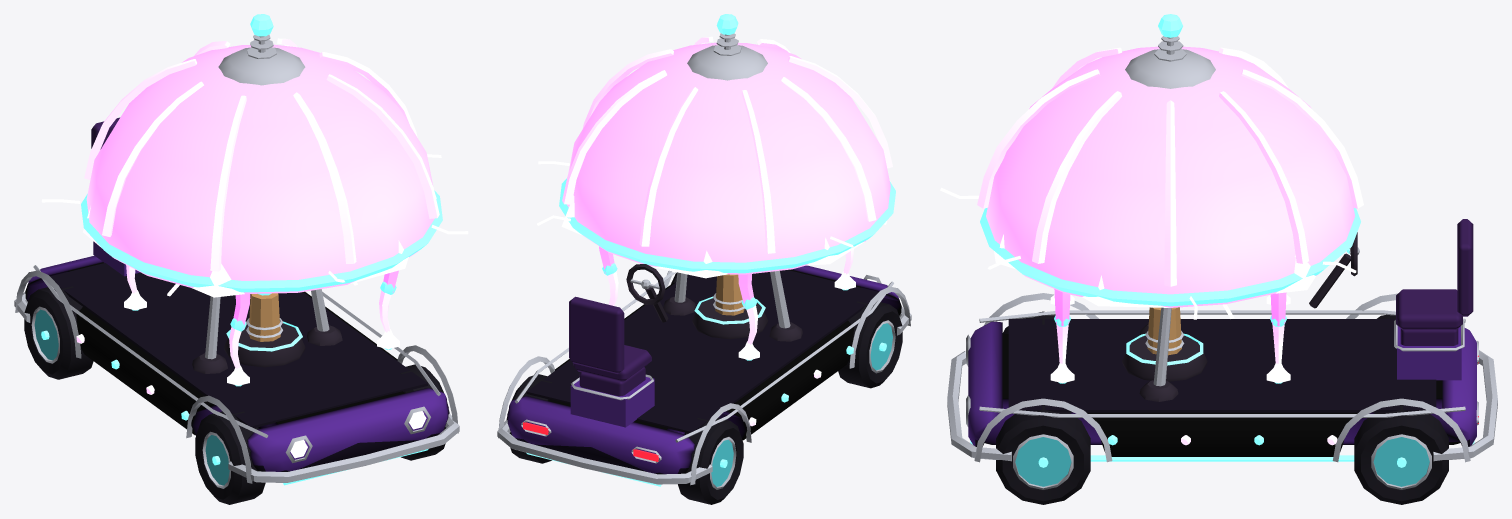
The model's file is jelly_jolt_lo.glb.
The picture shows the model from 3 angles, left to right: view 1: azimuth 30°, elevation 25°; view 2: azimuth 150°, elevation 25°; view 3: azimuth 270°, elevation 25°; orthographic projection. The views are drawn at different scales.
Visible parts, largest first — view 1: bell_dome, deck, pod, bell_ring, wheel_RR_tyre, wheel_FR_tyre, bumper_1, crown, coil_drum, rib_1, rib_0, rib_7 (+17 smaller); view 2: bell_dome, deck, pod, bell_ring, seat_back, wheel_FR_tyre, wheel_RR_tyre, plinth, bumper_0, crown, coil_drum, rib_3 (+20 smaller); view 3: bell_dome, deck, pod, wheel_RL_tyre, wheel_FL_tyre, bell_ring, seat_cushion, crown, plinth, coil_drum, rib_3, wheel_FL_dish (+20 smaller).
Part boxes in pixels (box(x1,y1,x2,y2)): bell_dome: box(86, 44, 434, 293); deck: box(50, 263, 427, 427); pod: box(25, 255, 448, 471); bell_ring: box(81, 190, 442, 292); wheel_RR_tyre: box(24, 286, 93, 379); wheel_FR_tyre: box(195, 411, 265, 504); bumper_1: box(228, 413, 459, 482); crown: box(218, 47, 305, 85); coil_drum: box(224, 323, 305, 367); rib_1: box(326, 74, 439, 218); rib_0: box(293, 92, 356, 263); rib_7: box(210, 95, 246, 271); bell_dome: box(566, 42, 890, 274); deck: box(526, 270, 878, 433); pod: box(507, 265, 901, 474); bell_ring: box(559, 178, 895, 273); seat_back: box(569, 296, 624, 373); wheel_FR_tyre: box(838, 301, 902, 388); wheel_RR_tyre: box(677, 418, 743, 504); plinth: box(570, 377, 654, 427); bumper_0: box(497, 420, 712, 484); crown: box(687, 45, 767, 80); coil_drum: box(692, 298, 767, 339); rib_3: box(562, 70, 666, 204); bell_dome: box(986, 46, 1355, 307); deck: box(1008, 319, 1436, 412); pod: box(968, 321, 1476, 456); wheel_RL_tyre: box(1354, 405, 1448, 504); wheel_FL_tyre: box(996, 405, 1090, 504); bell_ring: box(980, 208, 1360, 306); seat_cushion: box(1396, 289, 1462, 330); crown: box(1125, 49, 1215, 88); plinth: box(1397, 326, 1461, 380); coil_drum: box(1122, 335, 1207, 381); rib_3: box(1219, 91, 1308, 263); wheel_FL_dish: box(1015, 437, 1071, 486).
Bounding box in the file's own units: 3.86 × 4.18 × 4.83.
